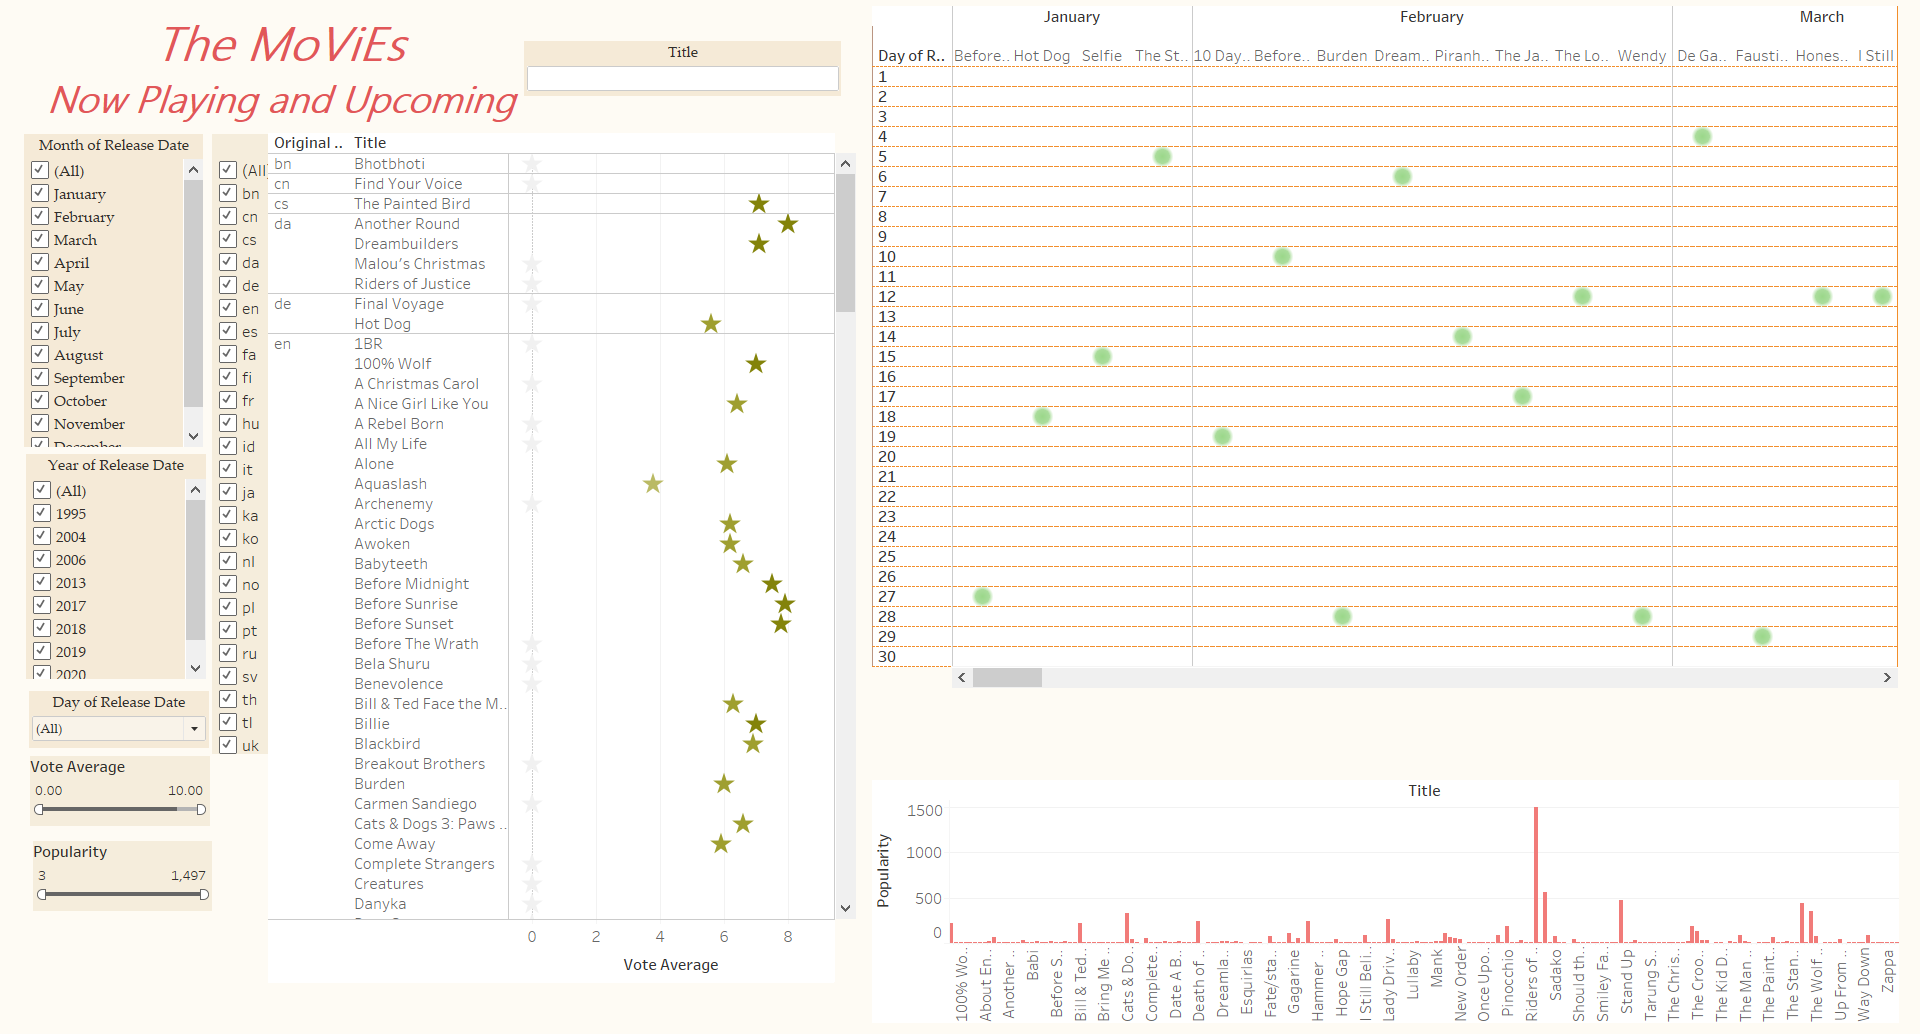

The dashboard page shown, as its layout file describes it:
{"tool":"tableau","page":{"name":"Dash A","canvas":[1000,1000],"units":"permille","ordinal":0},"visuals":[{"type":"worksheet","box":[0,0,1000,1000]},{"type":"worksheet","param":"vert","box":[4.2,7.6,991.7,984.8]},{"type":"worksheet","box":[4.2,7.6,991.7,984.8]},{"type":"worksheet","title":"Date","mark":"Heatmap","rows":["release_date"],"cols":["release_date","title"],"box":[454.1,7.7,534.2,740]},{"type":"worksheet","title":"Date","mark":"Heatmap","rows":["release_date"],"cols":["release_date","title"],"param":"[federated.0l3es6j1ce11xe12wu50z00fvczl].[none:title:nk]","box":[272.7,40.9,165.6,53.1]},{"type":"worksheet","title":"Vote Average Stars","mark":"Shape","rows":["original_language","title"],"cols":["vote_average"],"box":[139.6,129.4,306.1,815.3]},{"type":"worksheet","title":"Date","mark":"Heatmap","rows":["release_date"],"cols":["release_date","title"],"param":"[federated.0l3es6j1ce11xe12wu50z00fvczl].[mn:release_date:ok]","box":[12.3,130.5,93.6,299.8]},{"type":"worksheet","title":"Vote Average Stars","mark":"Shape","rows":["original_language","title"],"cols":["vote_average"],"param":"[federated.0l3es6j1ce11xe12wu50z00fvczl].[none:original_language:nk]","box":[110.6,130.5,93.6,594]},{"type":"worksheet","title":"Date","mark":"Heatmap","rows":["release_date"],"cols":["release_date","title"],"param":"[federated.0l3es6j1ce11xe12wu50z00fvczl].[yr:release_date:ok]","box":[13.5,436.9,93.6,215.7]},{"type":"worksheet","title":"Date","mark":"Heatmap","rows":["release_date"],"cols":["release_date","title"],"param":"[federated.0l3es6j1ce11xe12wu50z00fvczl].[dy:release_date:ok]","box":[15.2,664.8,93.6,54.2]},{"type":"worksheet","title":"Vote Average Stars","mark":"Shape","rows":["original_language","title"],"cols":["vote_average"],"param":"[federated.0l3es6j1ce11xe12wu50z00fvczl].[none:vote_average:qk]","box":[15.8,726.8,93.6,67.5]},{"type":"worksheet","title":"Popular","mark":"Bar","rows":["popularity"],"cols":["title"],"box":[454.1,750,534.8,233.4]},{"type":"worksheet","title":"Popular","mark":"Bar","rows":["popularity"],"cols":["title"],"param":"[federated.0l3es6j1ce11xe12wu50z00fvczl].[sum:popularity:qk]","box":[17,808.6,93.6,67.5]}]}

Visuals, with their boxes on the dashboard's canvas, which has no fixed pixel size, in thousandths of its width and height (x1, y1, x2, y2). These are canvas units, not pixel positions in the 1920x1034 screenshot, which may show the page scaled, cropped or inside an application window:
worksheet: (x1=0, y1=0, x2=1000, y2=1000)
worksheet: (x1=4, y1=8, x2=996, y2=992)
worksheet: (x1=4, y1=8, x2=996, y2=992)
"Date" worksheet (Heatmap marks): (x1=454, y1=8, x2=988, y2=748)
"Date" worksheet (Heatmap marks): (x1=273, y1=41, x2=438, y2=94)
"Vote Average Stars" worksheet (Shape marks): (x1=140, y1=129, x2=446, y2=945)
"Date" worksheet (Heatmap marks): (x1=12, y1=130, x2=106, y2=430)
"Vote Average Stars" worksheet (Shape marks): (x1=111, y1=130, x2=204, y2=724)
"Date" worksheet (Heatmap marks): (x1=14, y1=437, x2=107, y2=653)
"Date" worksheet (Heatmap marks): (x1=15, y1=665, x2=109, y2=719)
"Vote Average Stars" worksheet (Shape marks): (x1=16, y1=727, x2=109, y2=794)
"Popular" worksheet (Bar marks): (x1=454, y1=750, x2=989, y2=983)
"Popular" worksheet (Bar marks): (x1=17, y1=809, x2=111, y2=876)
